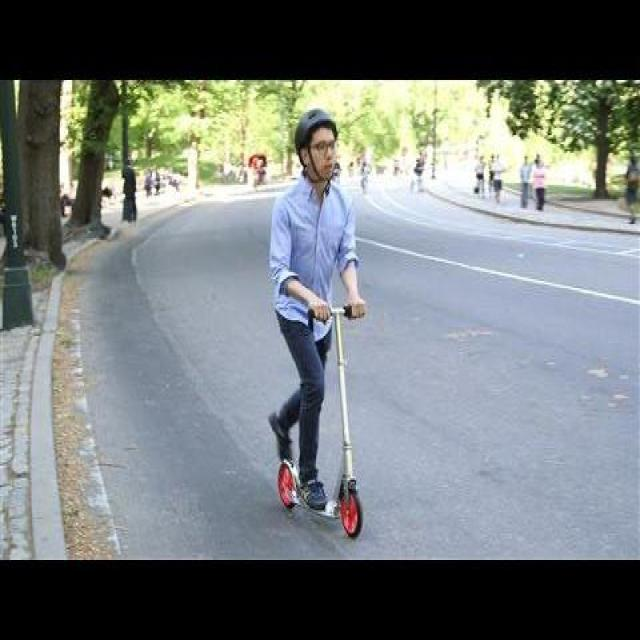Helmet: (289, 101, 343, 183)
